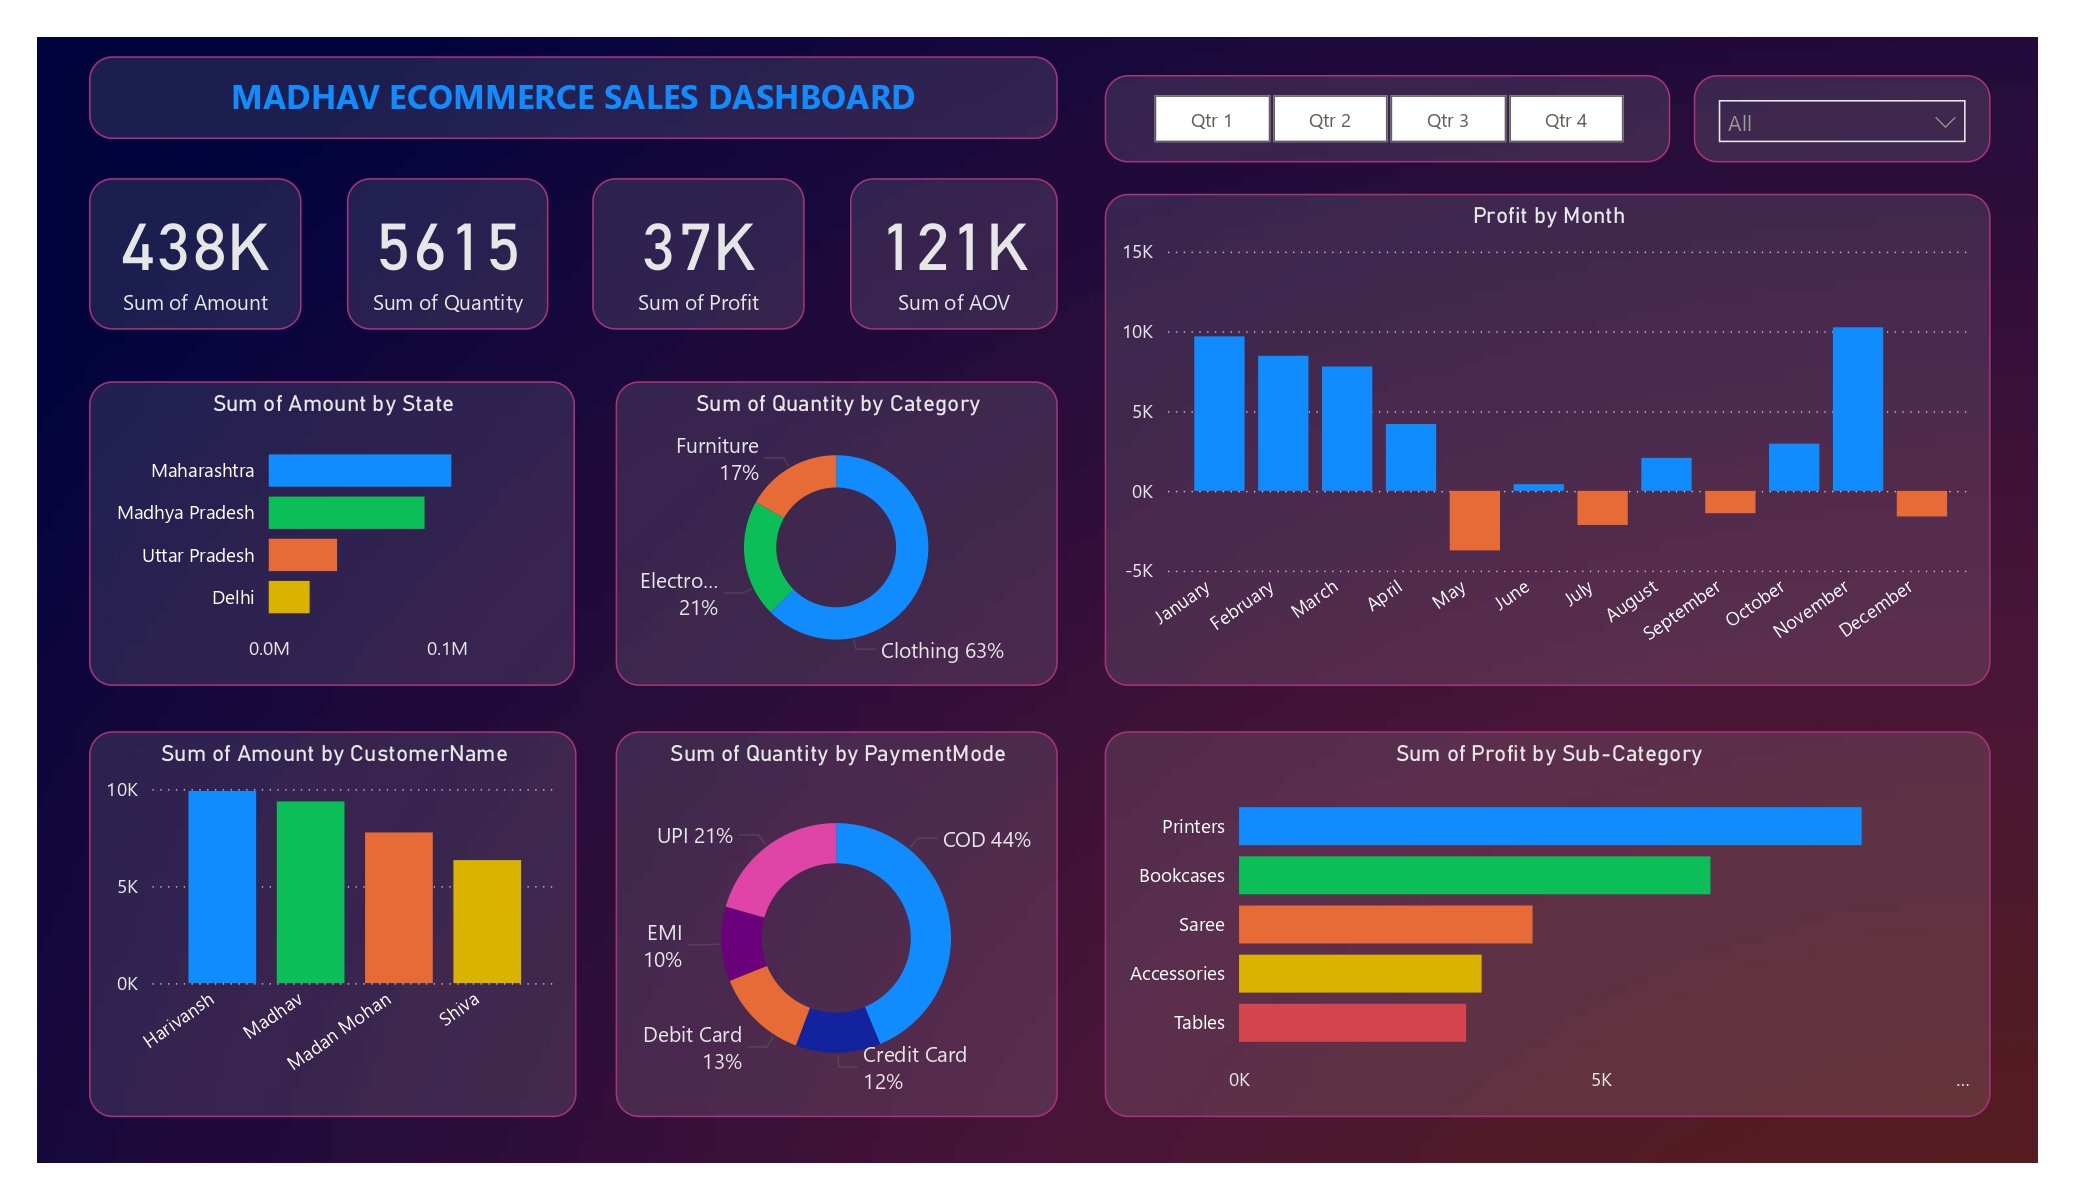

What the dashboard file says about the page in this screenshot:
{"tool":"powerbi","page":{"name":"Page 1","canvas":[1280,720],"ordinal":0},"visuals":[{"type":"textbox","box":[32.6,12.1,620.1,53.1],"z":0},{"type":"columnChart","title":"Profit by Month","fields":{"Category":["Orders.Order Date.Variation.Date Hierarchy.Month"],"Y":["Details.Profit"]},"box":[682.8,100.1,567,314.9],"z":1000},{"type":"barChart","fields":{"Category":["Details.Sub-Category"],"Y":["Details.Profit"]},"box":[682.8,444,567,247.3],"z":2000},{"type":"donutChart","fields":{"Category":["Details.Category"],"Y":["Details.Quantity"]},"box":[370.4,219.6,282.3,195.4],"z":3000},{"type":"donutChart","fields":{"Y":["Details.Quantity"],"Series":["Details.PaymentMode"]},"box":[370.4,444,282.3,247.3],"z":4000},{"type":"card","fields":{"Values":["Details.Amount"]},"box":[32.6,90.5,136.3,96.5],"z":5000},{"type":"card","fields":{"Values":["Details.Quantity"]},"box":[197.9,90.5,129.1,96.5],"z":6000},{"type":"card","fields":{"Values":["Details.Profit"]},"box":[354.7,90.5,136.3,96.5],"z":7000},{"type":"card","fields":{"Values":["Details.AOV"]},"box":[520,90.5,132.7,96.5],"z":8000},{"type":"barChart","fields":{"Category":["Orders.State"],"Y":["Details.Amount"]},"box":[32.6,219.6,311.3,195.4],"z":9000},{"type":"columnChart","fields":{"Category":["Orders.CustomerName"],"Y":["Details.Amount"]},"box":[32.6,444,312.5,247.3],"z":10000},{"type":"slicer","fields":{"Values":["Orders.Order Date.Variation.Date Hierarchy.Quarter"]},"box":[682.8,24.1,361.9,55.5],"z":11000},{"type":"slicer","fields":{"Values":["Orders.State"]},"box":[1060.5,24.1,189.4,55.5],"z":12000}]}

Visuals, with their boxes on the page's 1280x720 design canvas (x1, y1, x2, y2). These are canvas units, not pixel positions in the 2075x1200 screenshot, which may show the page scaled, cropped or inside an application window:
textbox: region(33, 12, 653, 65)
"Profit by Month" columnChart: region(683, 100, 1250, 415)
barChart - Details.Sub-Category x Details.Profit: region(683, 444, 1250, 691)
donutChart - Details.Category x Details.Quantity: region(370, 220, 653, 415)
donutChart - Details.Quantity x Details.PaymentMode: region(370, 444, 653, 691)
card - Details.Amount: region(33, 90, 169, 187)
card - Details.Quantity: region(198, 90, 327, 187)
card - Details.Profit: region(355, 90, 491, 187)
card - Details.AOV: region(520, 90, 653, 187)
barChart - Orders.State x Details.Amount: region(33, 220, 344, 415)
columnChart - Orders.CustomerName x Details.Amount: region(33, 444, 345, 691)
slicer - Orders.Order Date.Variation.Date Hierarchy.Quarter: region(683, 24, 1045, 80)
slicer - Orders.State: region(1060, 24, 1250, 80)
